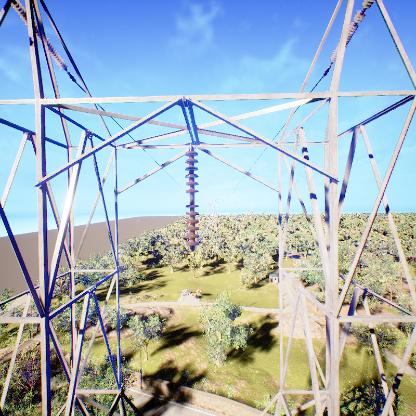insulator: (183, 149, 200, 249)
